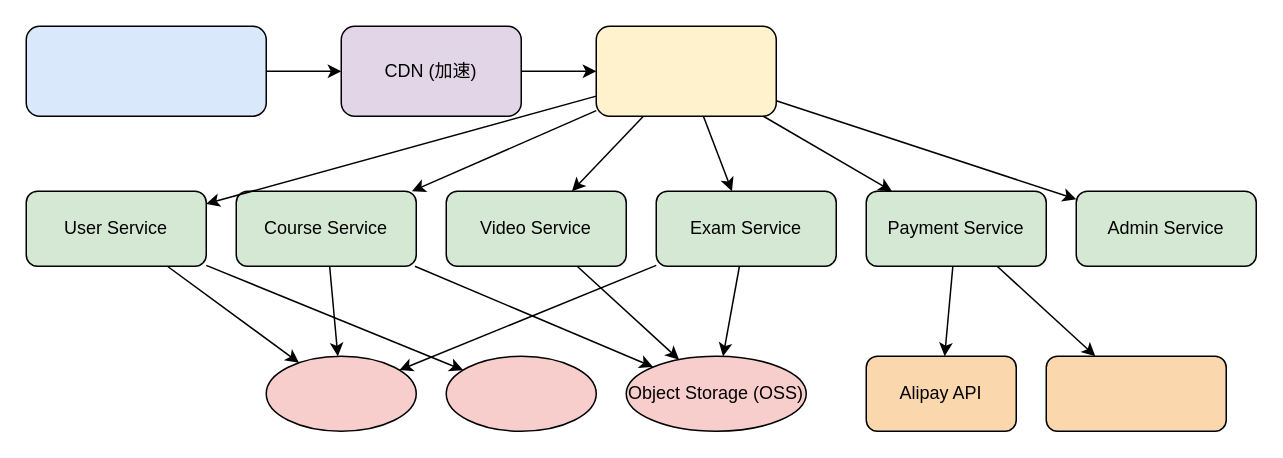
Some shapes in this 1283 by 458 pixel diagram are drawn without their labels. The box of each missing label's shape, as (x1, y1, x2, y2) in pixels:
API Gateway: (595, 25, 776, 116)
Cache (Redis): (445, 355, 596, 431)
Database (RDS): (265, 355, 416, 431)
Frontend App (Web/App): (25, 25, 266, 116)
WeChat Pay API: (1045, 355, 1226, 431)
